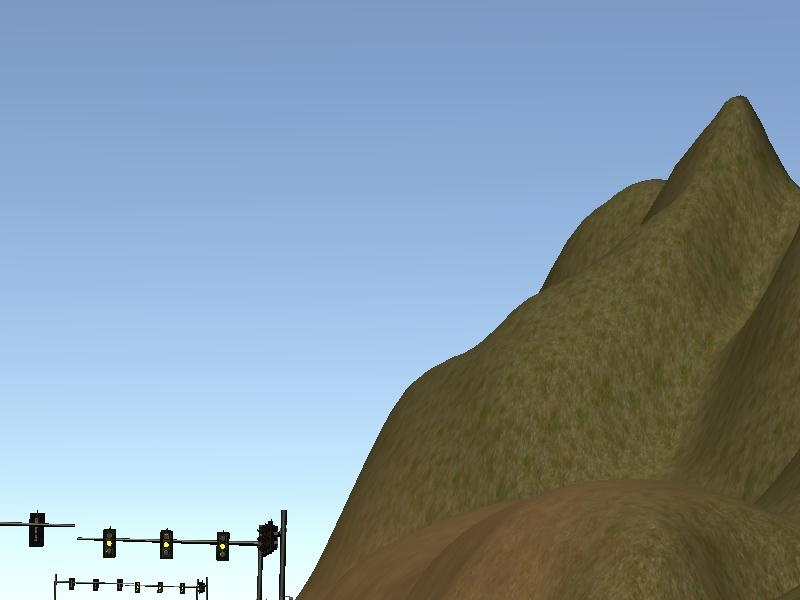yellow: (103, 528, 115, 556), (216, 532, 228, 559), (161, 531, 172, 557)
